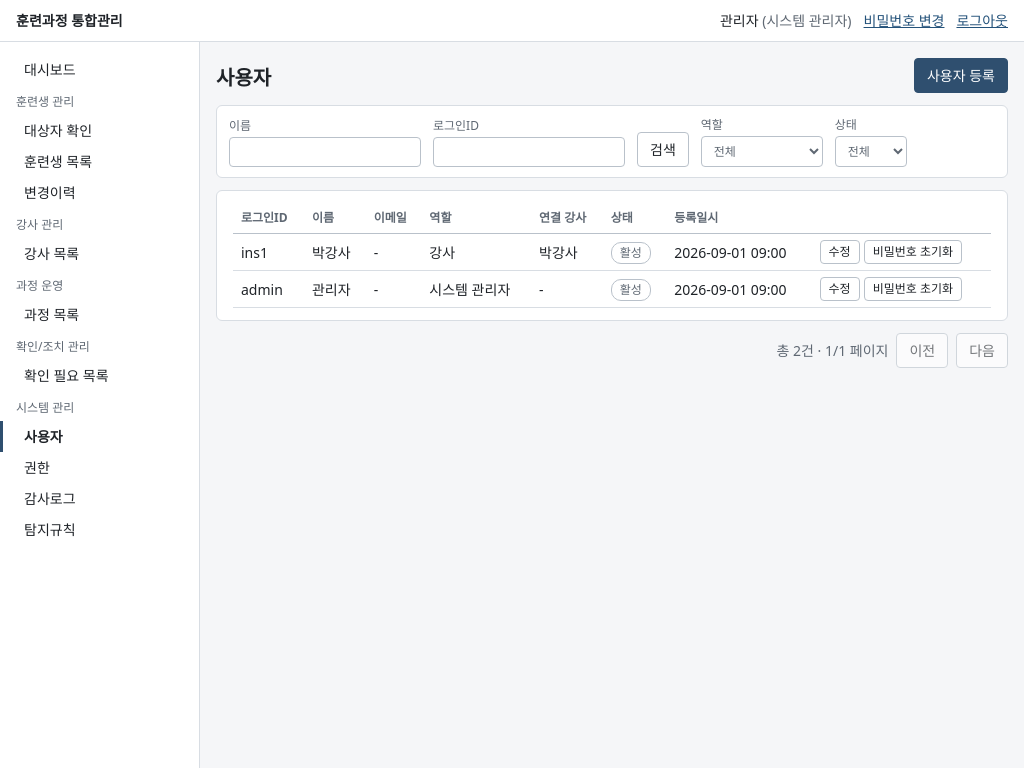
S25 사용자 › 수정은 바뀐 필드만(다른 역할로 바꾸면 연결 강사 해제), 마지막 관리자 409 는 서버 안내를 보여 준다
Click the button with aria-label "ins1 수정" at [840, 252], box [820, 240, 860, 264]
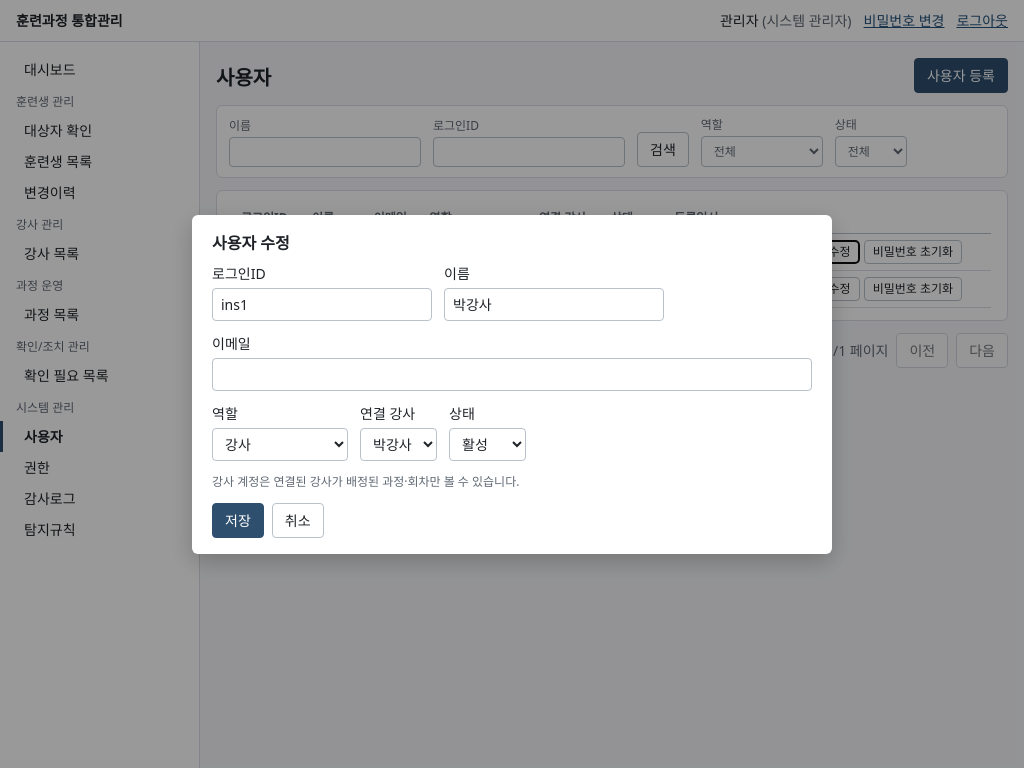
Now the field labelled "로그인ID" is disabled, box [212, 288, 432, 320]
Select "과정 운영 담당자" in the dropdown labelled "역할" at [280, 444], box [212, 428, 348, 460]
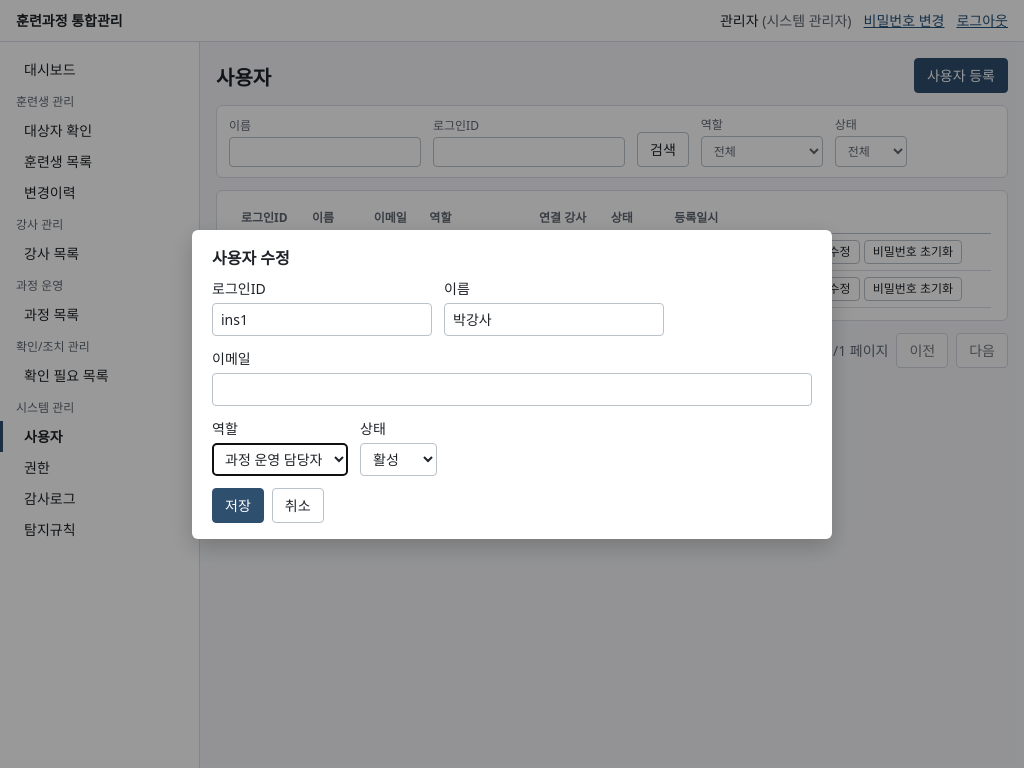
Click the button "저장" at [238, 505], box [212, 488, 264, 522]
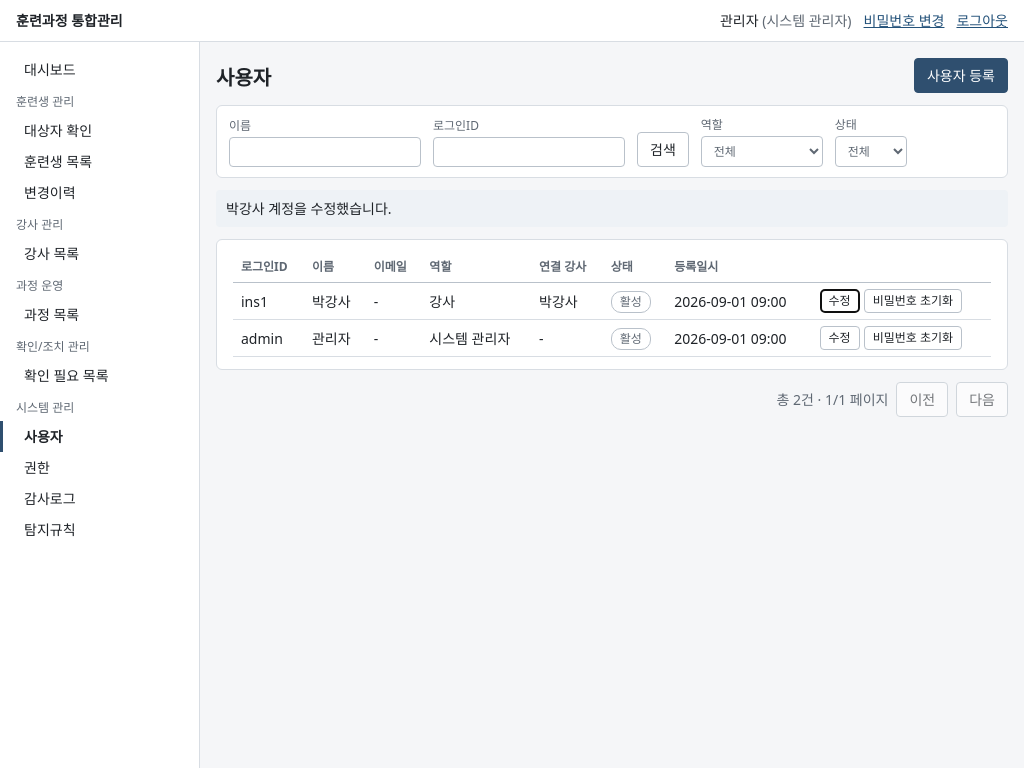
Now the text "박강사 계정을 수정했습니다." is shown, box [216, 190, 1008, 227]
Click the button with aria-label "admin 수정" at [840, 338], box [820, 326, 860, 350]
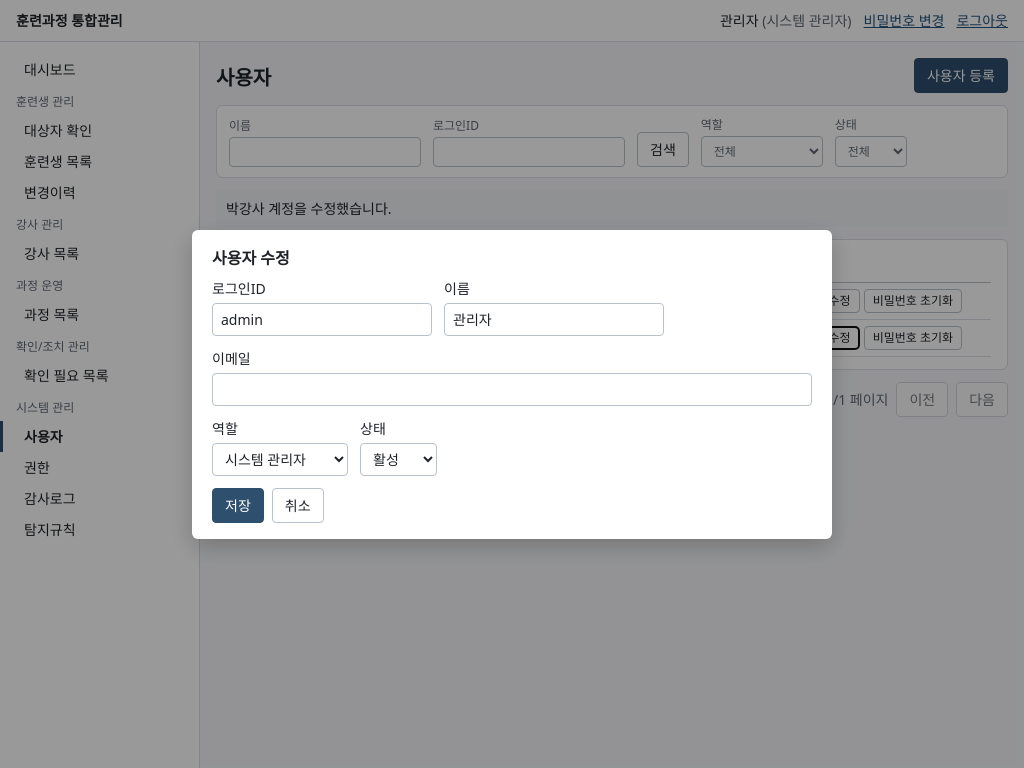
Select "비활성" in the dropdown labelled "상태" at [398, 459], box [360, 442, 437, 476]
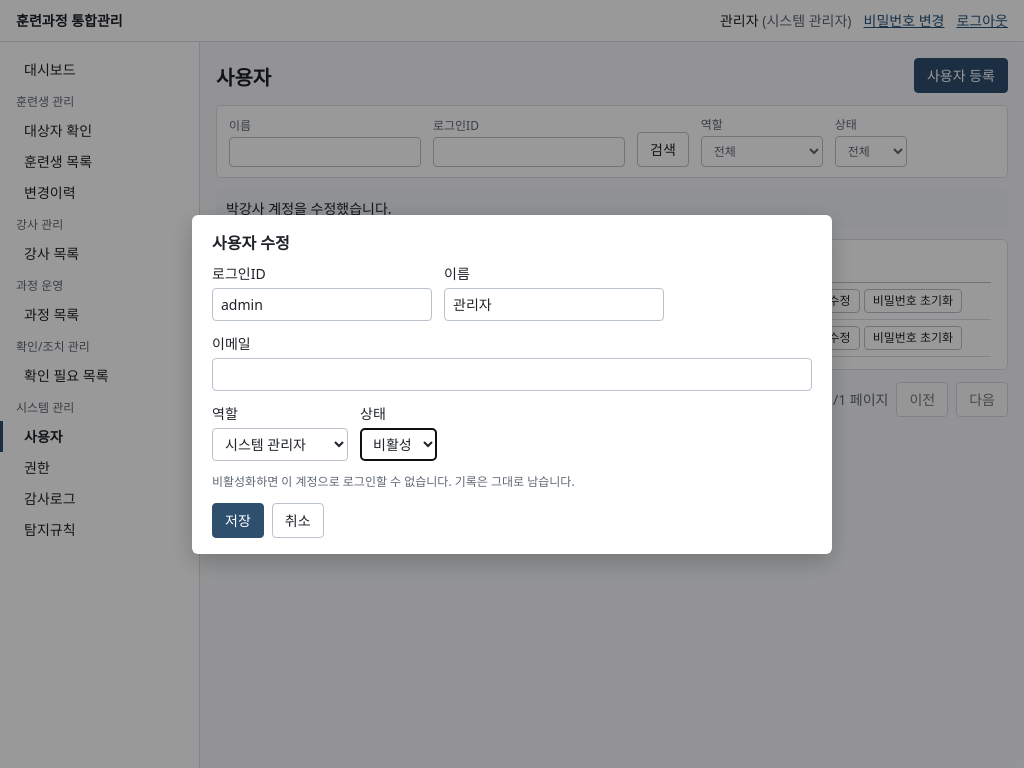
Click the button "저장" at [238, 520], box [212, 502, 264, 538]
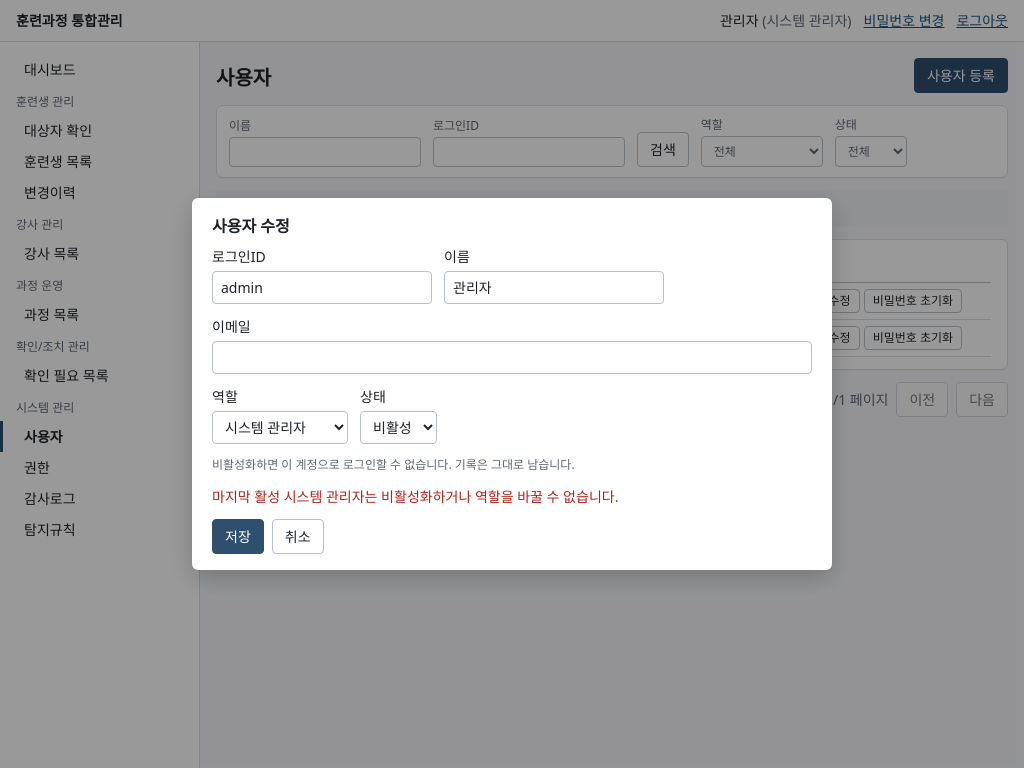
Now the message "마지막 활성 시스템 관리자는 비활성화하거나 역할을 바꿀 수 없습니다." is shown, box [212, 487, 618, 506]
